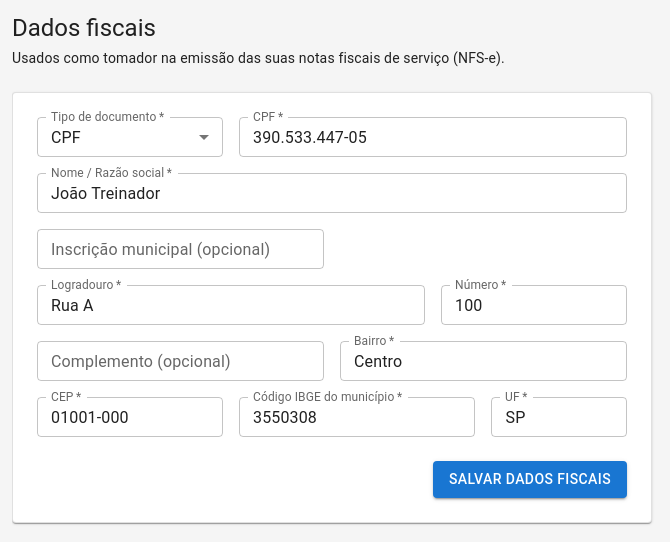
Test case: DadosFiscaisTreinadorPage › não apaga logradouro/bairro já preenchidos quando o CEP único retorna campos vazios
Expected: the field labelled "Logradouro *" holds "Rua A", [37, 285, 425, 325]
Replace the text in the field labelled "CEP *" with "70040010" at (130, 417), box [37, 397, 223, 437]
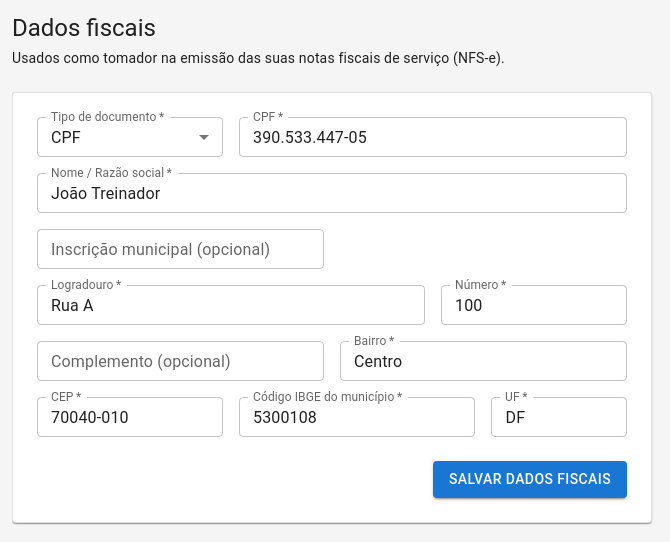
Expected: the field labelled "Logradouro *" holds "Rua A", [37, 285, 425, 325]
Expected: the field labelled "UF *" holds "DF", [492, 397, 627, 437]
Expected: the field labelled "Código IBGE do município *" holds "5300108", [239, 397, 476, 437]
